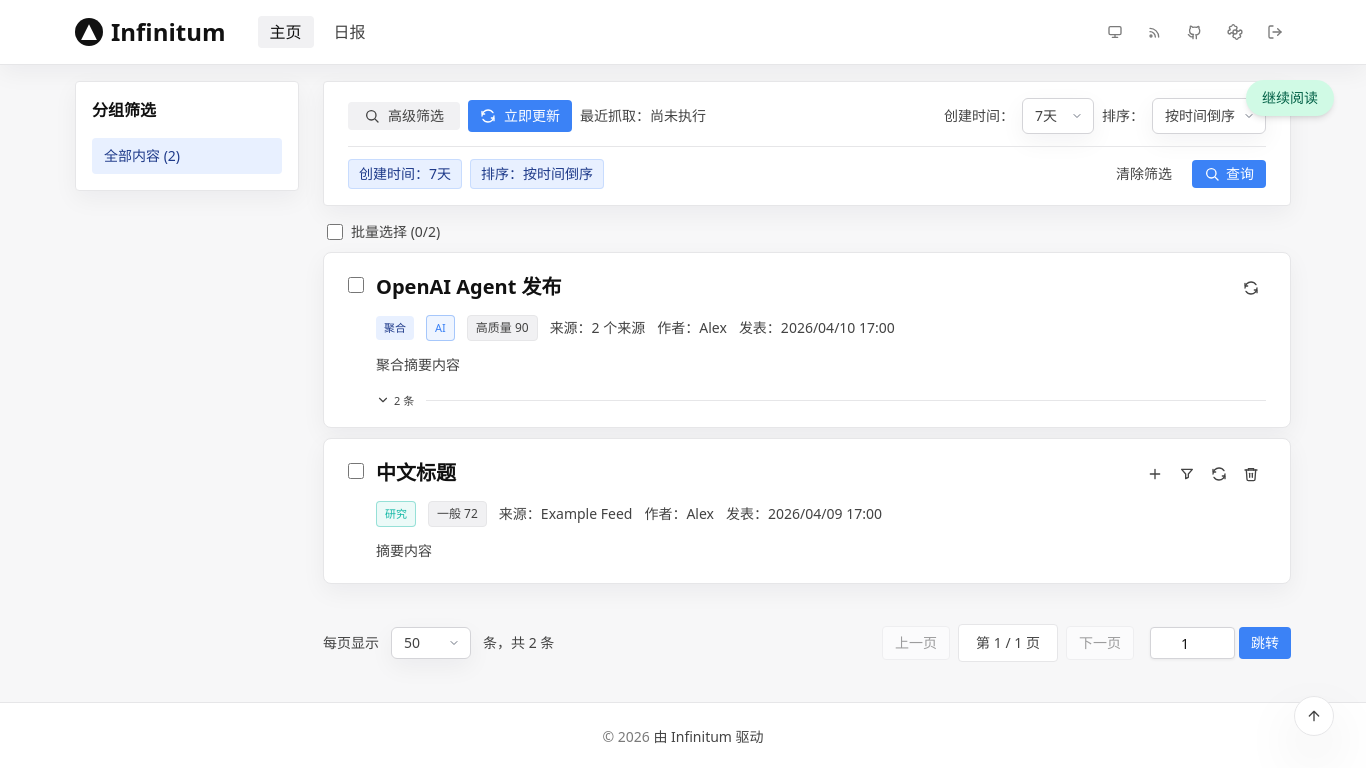
Scenario: FeedPanel › renders regenerate API errors as alerts
(page scrolled)
Click the button named "重新生成内容": (1219,474) left=1204, top=459, right=1234, bottom=489
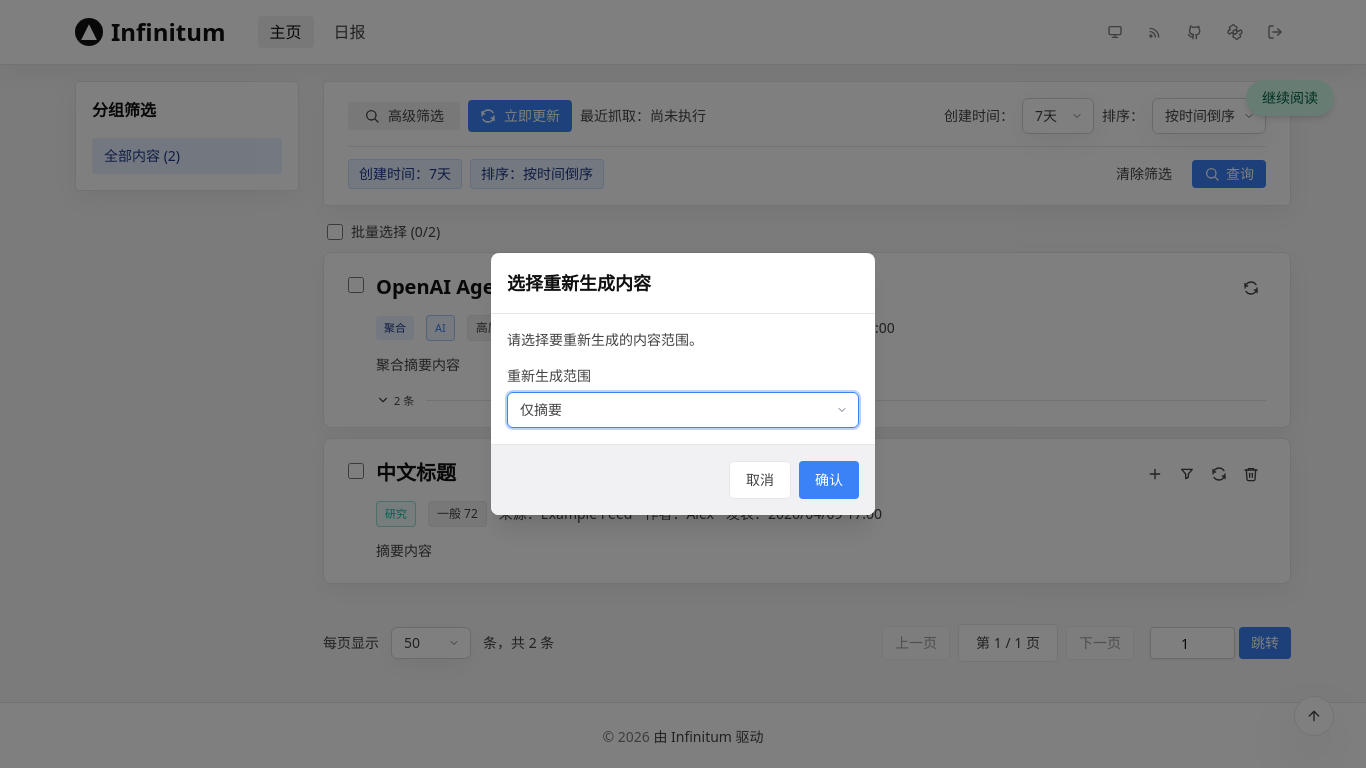
Select "仅摘要" in the dropdown named "重新生成范围": (683,410) left=507, top=392, right=859, bottom=428
Click the button "确认": (829,480) left=799, top=461, right=859, bottom=499
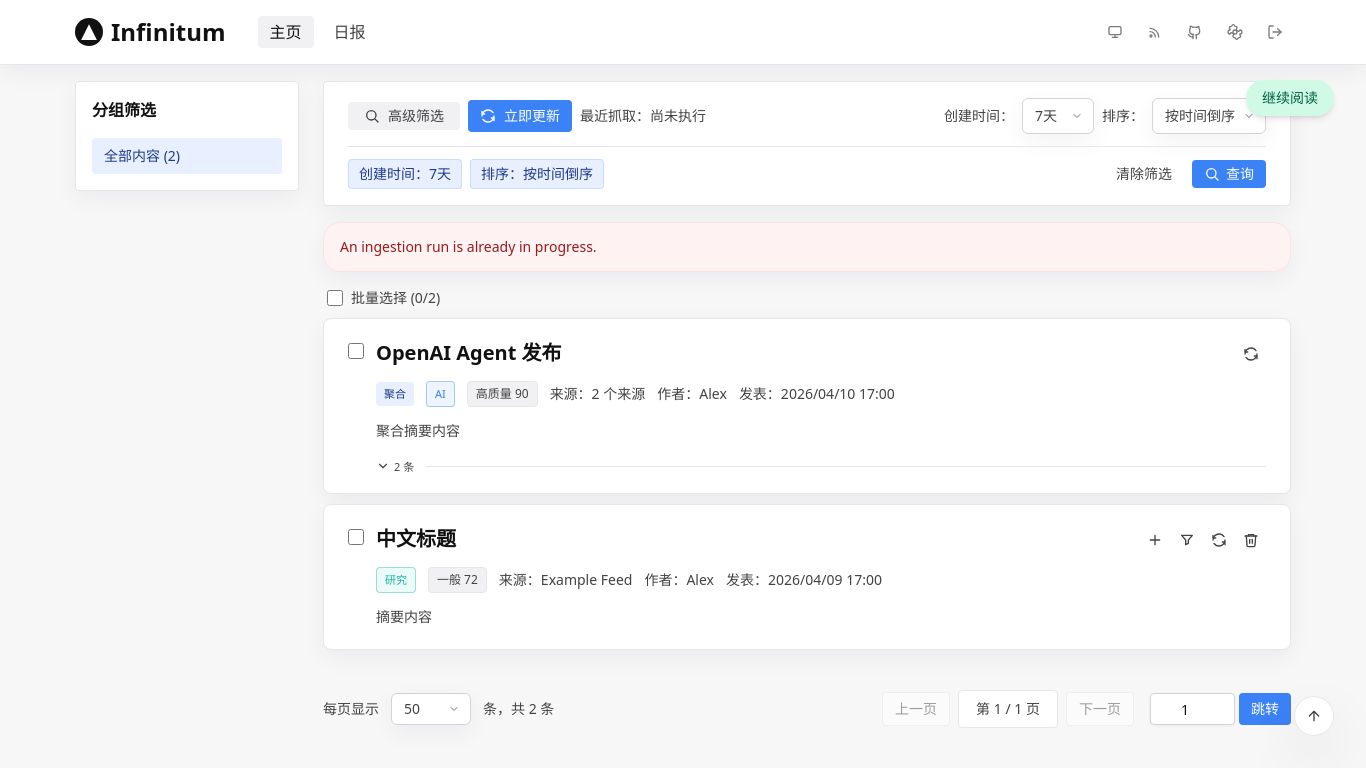
Check: the text "An ingestion run is already in progress." is shown, box left=323, top=222, right=1291, bottom=272
